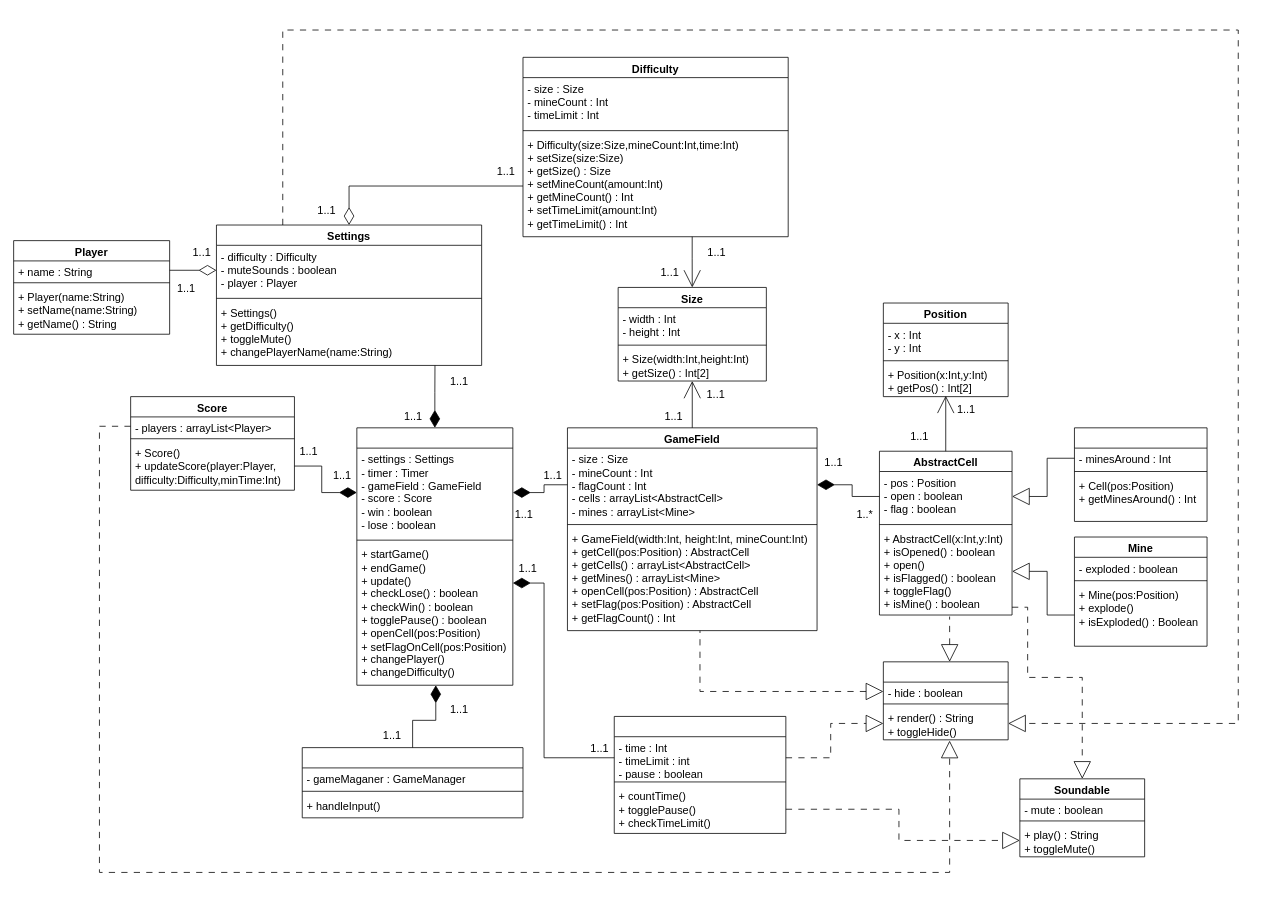
The diagram is 1269 pixels wide and 903 high, and some of its shapes have lost their labels. Here are the shapes that lost their labels. From the top down, the box of each, then its label:
(1074, 427, 1207, 521): EmptyCell
(356, 427, 513, 685): GameManager
(883, 661, 1008, 740): Renderable
(301, 747, 523, 818): InputManager
(613, 716, 786, 833): Timer
